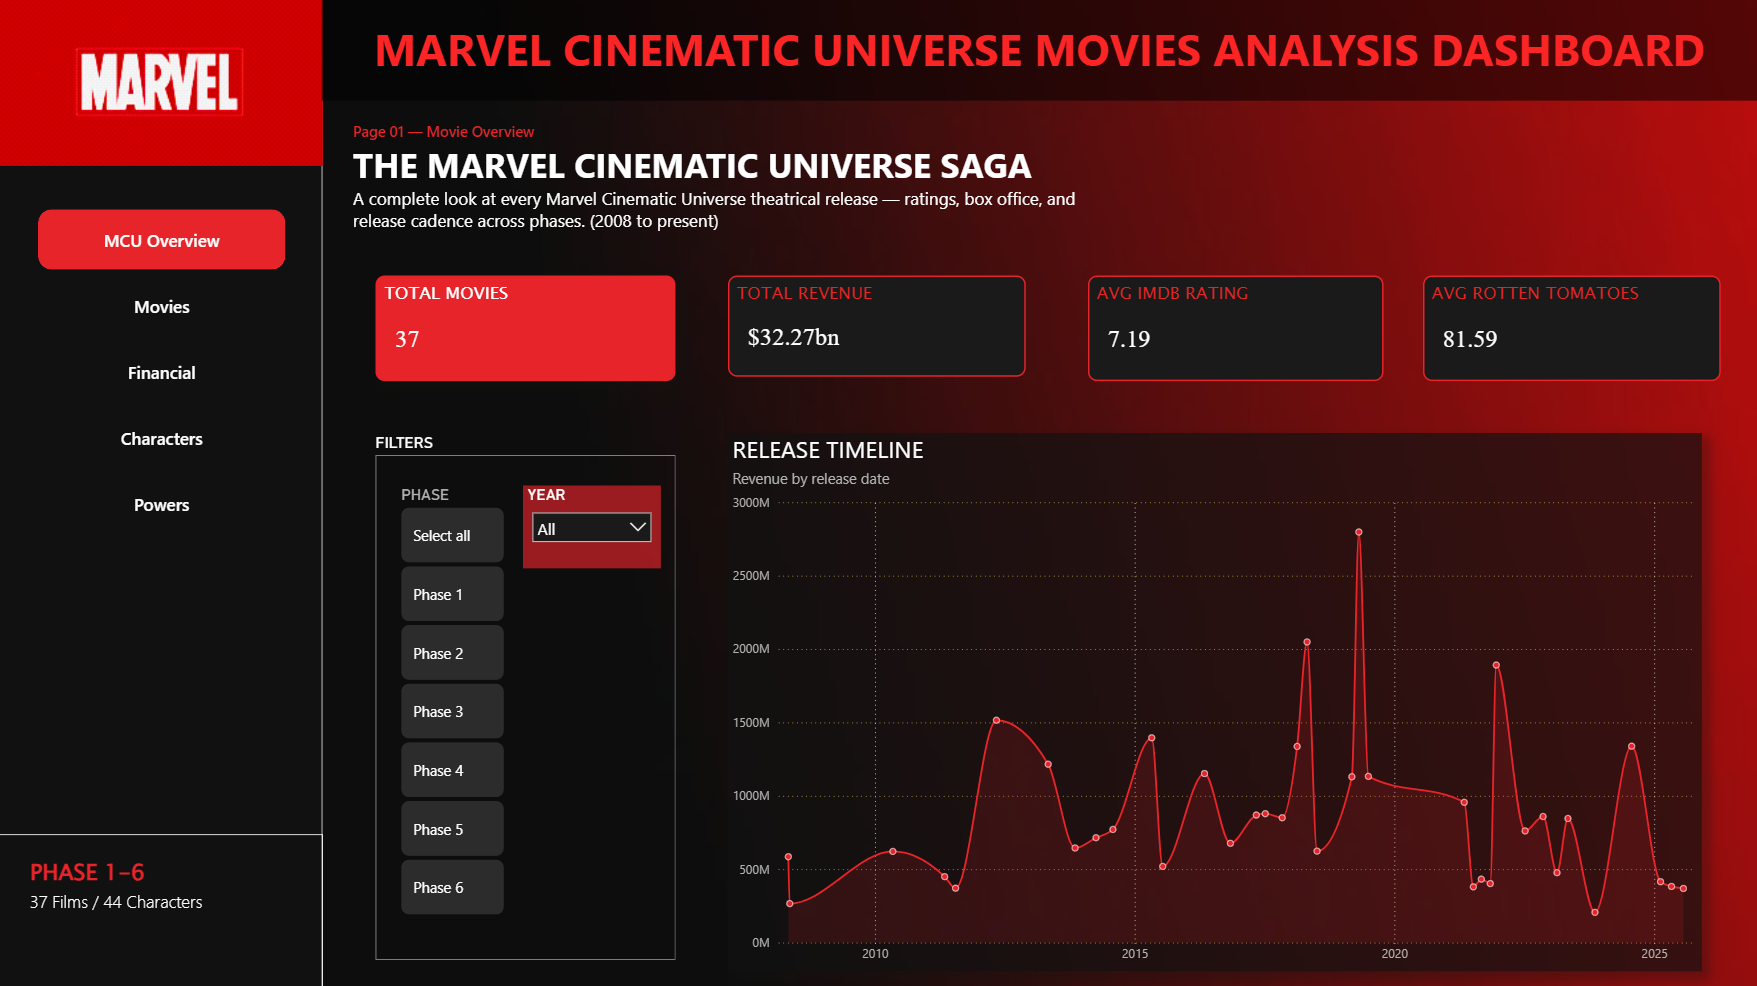

The page's visual inventory and layout, read from the dashboard file:
{"tool":"powerbi","page":{"name":"MCU Overview","canvas":[1920,1080],"ordinal":0},"visuals":[{"type":"cardVisual","title":"TOTAL MOVIES","fields":{"Data":["CountNonNull(mcu_box_office.Movie_Title)"]},"box":[412,302.2,327.5,115],"z":0},{"type":"shape","box":[0,0,354,1080],"z":1000},{"type":"pageNavigator","box":[43.6,230.2,270.3,355.8],"z":2000},{"type":"textbox","box":[0,912,354,168],"z":3000},{"type":"textbox","box":[353.4,112.2,1567.7,174.2],"z":4000},{"type":"cardVisual","title":"TOTAL REVENUE","fields":{"Data":["Sum(mcu_box_office.Worldwide_box_office USD($))"]},"box":[797,302.2,325,110],"z":5000},{"type":"cardVisual","title":"AVG IMDB RATING","fields":{"Data":["Avg(mcu_box_office.IMDB (scored out of 10))"]},"box":[1189.5,302.2,322.5,115],"z":6000},{"type":"cardVisual","title":"AVG ROTTEN TOMATOES","fields":{"Data":["Avg(mcu_box_office.Rotten Tomatoes - Critics (scored out of 100%))"]},"box":[1554.5,302.2,325,115],"z":7000},{"type":"shape","title":"FILTERS","box":[412,474.6,327.5,575],"z":8000},{"type":"advancedSlicerVisual","title":"PHASE","fields":{"Values":["MCU_Movies_Dataset.MCU_Phase"]},"box":[434.5,532.1,122.5,475],"z":9000},{"type":"slicer","title":"YEAR","fields":{"Values":["mcu_box_office.Release_Date (US).Variation.Date Hierarchy.Year"]},"box":[573.4,531.8,150,90.7],"z":10000},{"type":"lineChart","title":"RELEASE TIMELINE","fields":{"Category":["mcu_box_office.Release_Date (US)"],"Y":["Sum(mcu_box_office.Worldwide_box_office USD($))"]},"box":[797,474.6,1062.5,587.5],"z":11000},{"type":"image","box":[0,0,354.1,183.1],"z":12000},{"type":"textbox","box":[353.4,0,1566.1,112.2],"z":13000}]}

Visuals, with their boxes in screenshot pixels (x1, y1, x2, y2), scaled from the page's 1920x1080 canvas onto the 1757x986 screenshot:
"TOTAL MOVIES" cardVisual: 377 276 677 381
shape: 0 0 324 985
pageNavigator: 40 210 287 535
textbox: 0 833 324 985
textbox: 323 102 1756 261
"TOTAL REVENUE" cardVisual: 729 276 1027 376
"AVG IMDB RATING" cardVisual: 1089 276 1384 381
"AVG ROTTEN TOMATOES" cardVisual: 1423 276 1720 381
"FILTERS" shape: 377 433 677 958
"PHASE" advancedSlicerVisual: 398 486 510 919
"YEAR" slicer: 525 486 662 568
"RELEASE TIMELINE" lineChart: 729 433 1702 970
image: 0 0 324 167
textbox: 323 0 1756 102
